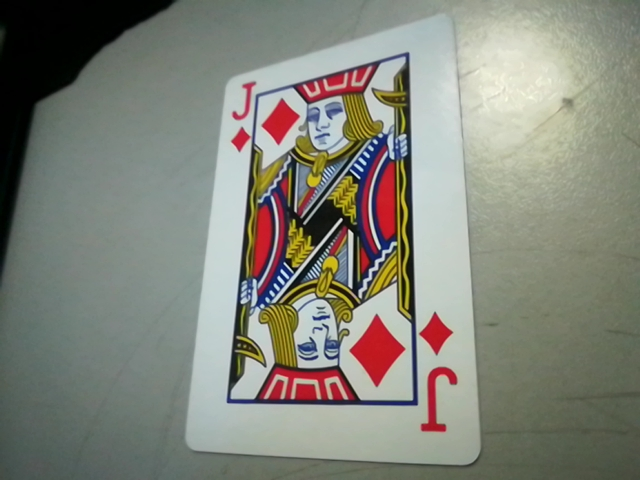fk j: (410, 306, 468, 439), (218, 77, 260, 150)
